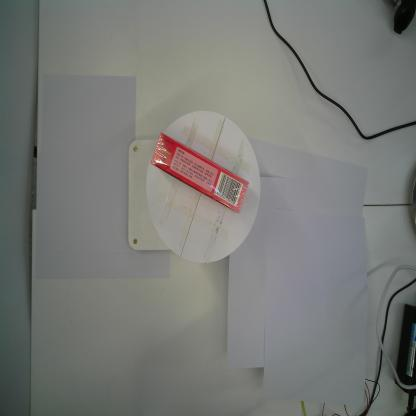Instant Drink: (150, 132, 250, 214)
